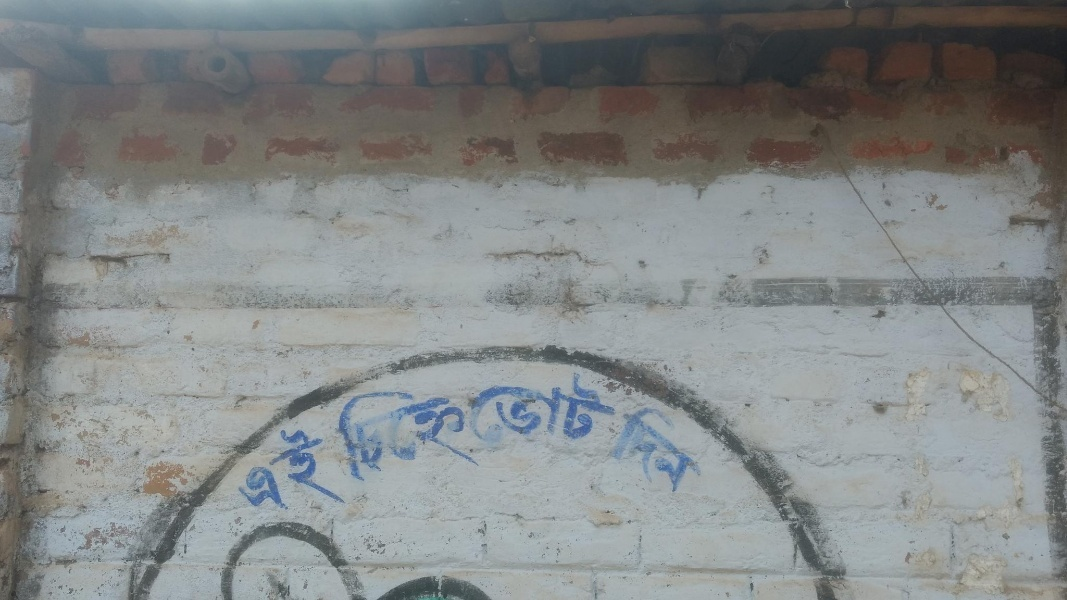text: (337, 360, 352, 495), (353, 360, 368, 495), (369, 360, 384, 495), (385, 360, 400, 495), (401, 360, 416, 495), (417, 360, 432, 495), (433, 360, 448, 495), (449, 360, 464, 495), (465, 360, 480, 495), (241, 408, 256, 522), (257, 408, 272, 522), (273, 408, 288, 522), (289, 408, 304, 522), (305, 408, 320, 522), (321, 408, 336, 522), (337, 408, 352, 522), (641, 395, 656, 509), (657, 395, 672, 509), (673, 395, 688, 509), (689, 395, 704, 509), (228, 408, 240, 522), (465, 367, 480, 451), (481, 367, 496, 451), (497, 367, 512, 451), (513, 367, 528, 451), (529, 367, 544, 451), (545, 367, 560, 451), (561, 367, 576, 451), (577, 367, 592, 451), (593, 367, 608, 451), (609, 367, 624, 451), (328, 360, 336, 495), (452, 367, 464, 451), (481, 360, 488, 495), (353, 408, 361, 522), (705, 395, 712, 509), (634, 395, 640, 509), (625, 367, 632, 451)
